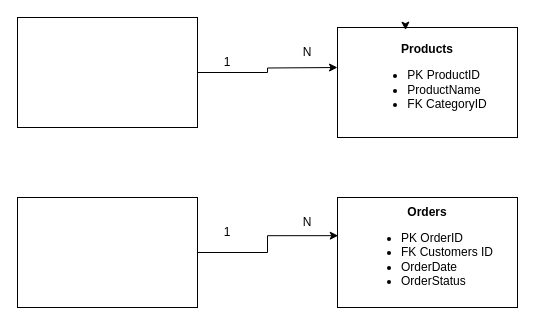
This 535x325 diagram has some shape labels left out. Each missing label, with the centre of its shape:
Categories PK Category ID Category Name: (107,72)
Customers PK Customers ID CustomerName City Region: (107,252)
